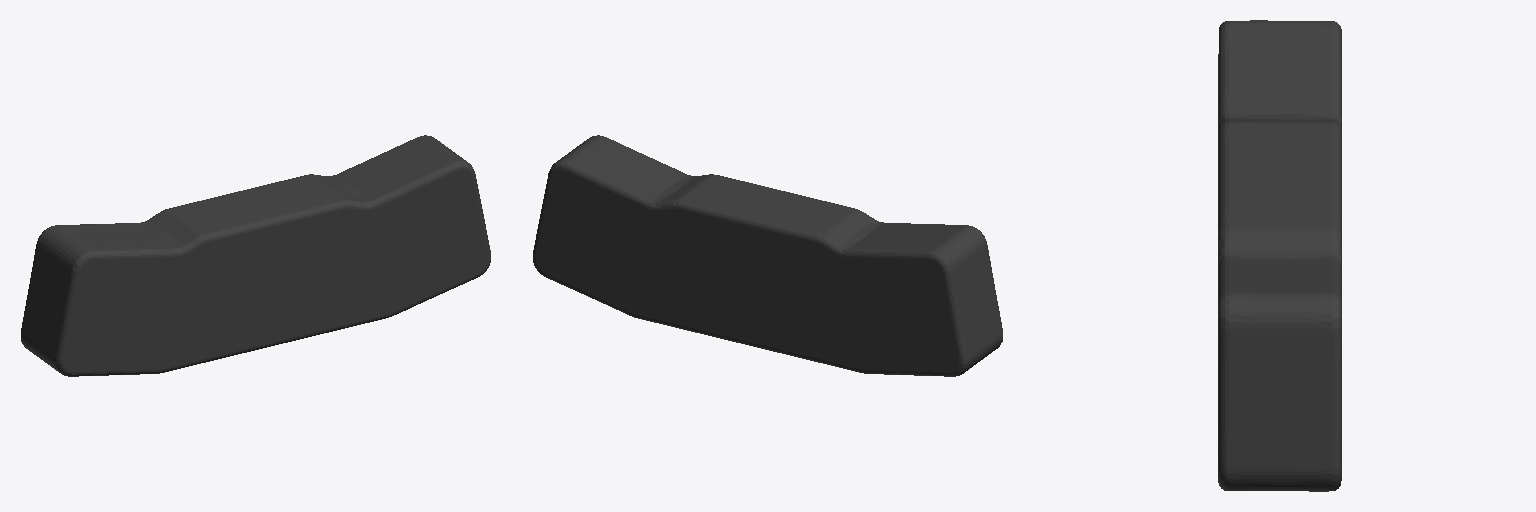
robot.urdf — canera3d:
<?xml version="1.0" ?>
<robot name="canera3d">
  <link name="base">
    <inertial>
      <mass value="4.0"/>
      <origin rpy="0 0 0" xyz="0.0 0.0 0.0"/>
      <inertia ixx="0.0" ixy="0.0" ixz="0.0" iyy="0.0" iyz="0.0" izz="0.0"/>
    </inertial>
    <visual>
      <origin rpy="3.14 0 0" xyz="0 0 0"/>
      <geometry>
        <mesh filename="camera3d.obj" scale="1 1 1"/>
      </geometry>
      <material name="black">
        <color rgba="0.3 0.3 0.3 1"/>
      </material>
    </visual>
  </link>

</robot>

--- Render facts (derived) ---
The picture shows the robot from 3 angles, left to right: view 1: azimuth 30°, elevation 25°; view 2: azimuth 150°, elevation 25°; view 3: azimuth 270°, elevation 25°; orthographic projection.
Robot: canera3d — 1 links, 0 joints (none); root link base; default pose: every joint at zero.
Links seen in each view (by area): view 1: base; view 2: base; view 3: base.
Link boxes in pixels (x1,y1,x2,y2): base: (21,135,490,376); base: (533,135,1002,376); base: (1218,20,1341,491).
Bounding box of the posed robot: 0.2608 × 0.0425 × 0.0797 m (x, y, z).
1 mesh visuals loaded from 1 distinct referenced files (1 OBJ).